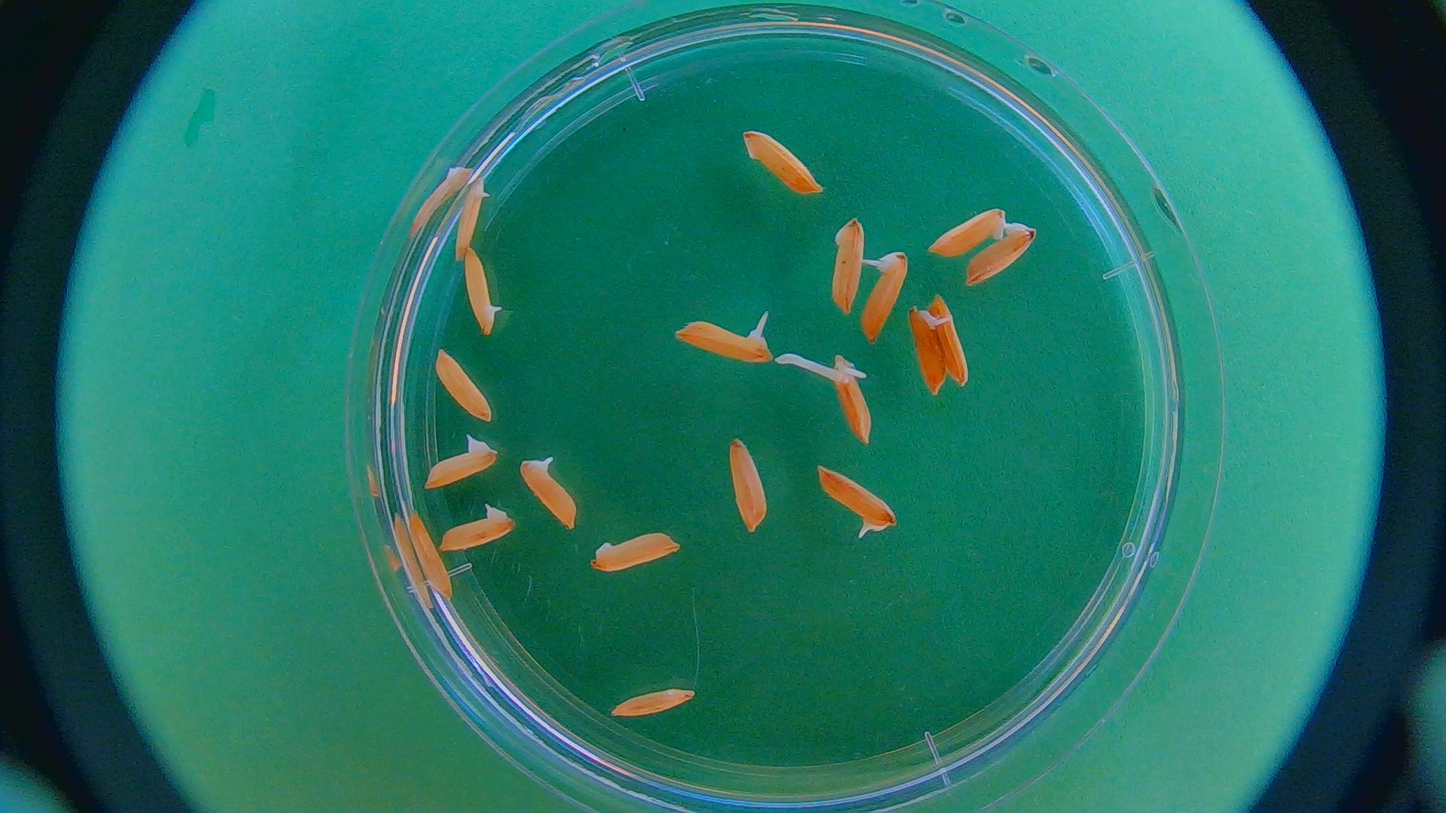no: (744, 129, 825, 196), (932, 204, 1010, 263), (434, 352, 495, 425), (966, 226, 1031, 293), (728, 433, 770, 531), (405, 512, 452, 599), (930, 293, 972, 389), (829, 215, 864, 324), (441, 508, 519, 556), (448, 173, 490, 260), (589, 531, 674, 573), (612, 680, 695, 719)
yes: (813, 469, 892, 536), (517, 456, 579, 533), (859, 249, 909, 342), (679, 318, 773, 365), (418, 437, 495, 492), (831, 356, 872, 446), (908, 303, 941, 399), (465, 249, 499, 335)
